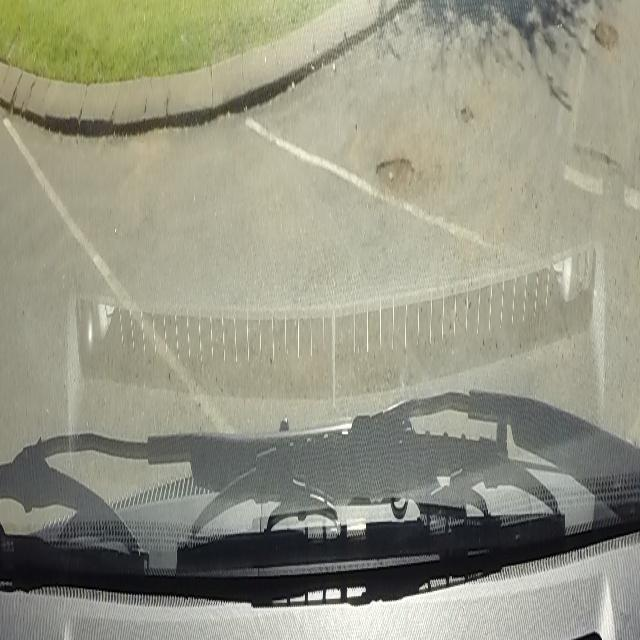pothole: (374, 154, 416, 190), (593, 10, 618, 56)
